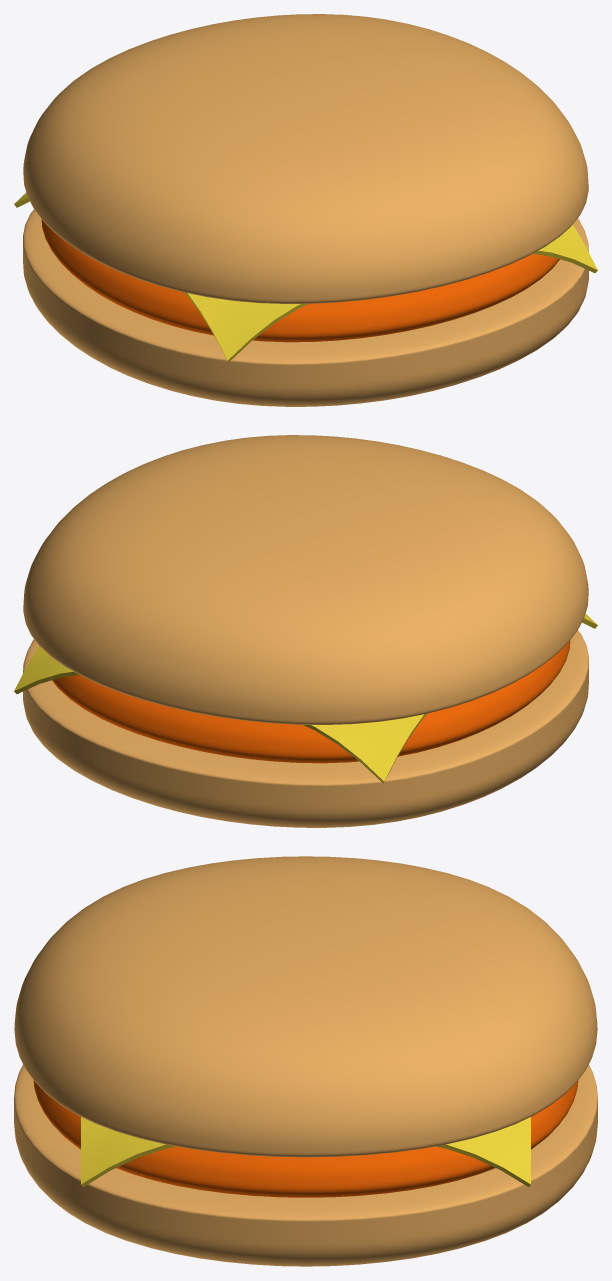
File: hamburger.glb
The picture shows the model from 3 angles, top to bottom: view 1: azimuth 30°, elevation 25°; view 2: azimuth 150°, elevation 25°; view 3: azimuth 270°, elevation 25°; orthographic projection. The views are drawn at different scales.
Visible parts, largest first — view 1: Cube.002, Cube, Cube.001, Plane; view 2: Cube.002, Cube, Cube.001, Plane; view 3: Cube.002, Cube, Cube.001, Plane.
Part boxes in pixels (x1,y1,x2,y2): Cube.002: (23,14,588,303); Cube: (23,209,588,406); Cube.001: (41,219,559,342); Plane: (14,193,597,362); Cube.002: (23,435,588,724); Cube: (23,630,588,827); Cube.001: (52,640,570,763); Plane: (14,614,597,783); Cube.002: (14,856,597,1157); Cube: (14,1064,597,1266); Cube.001: (33,1080,578,1197); Plane: (81,1117,530,1186).
Size of the model in its own units: 9.22 by 4.4 by 9.22.
